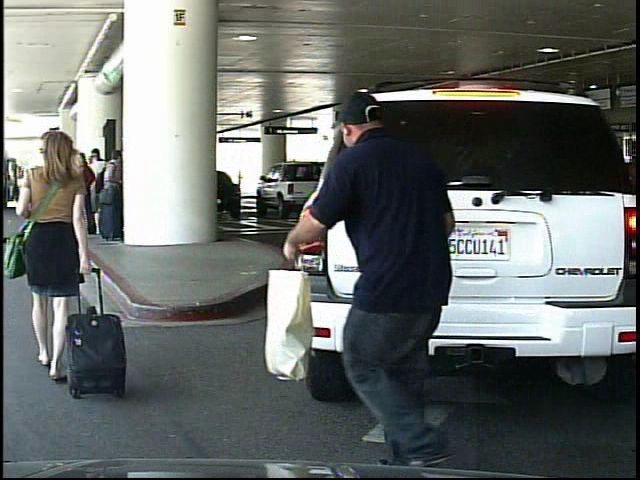person: (313, 78, 484, 468), (4, 123, 105, 407)
